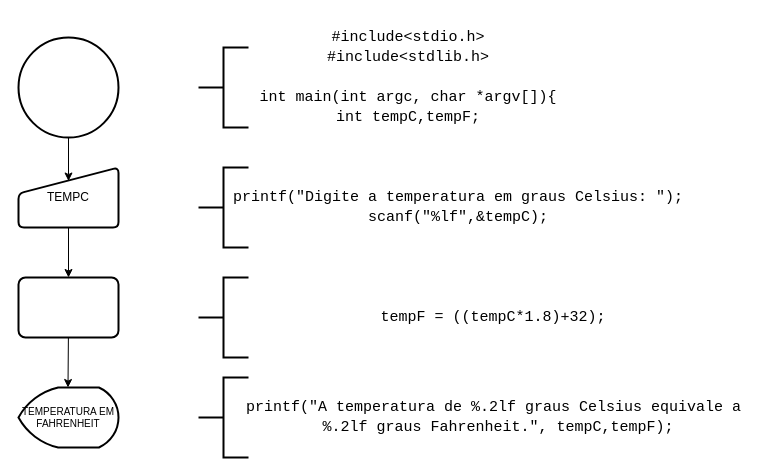
The diagram is 758 pixels wide and 475 high, and some of its shapes have lost their labels. The shapes that lost their labels are listed below. From the top down, each one's box as (x1, y1, x2, y2) in pixels, then its label:
(17, 36, 119, 138): INICIO
(17, 276, 119, 338): TEMPF
